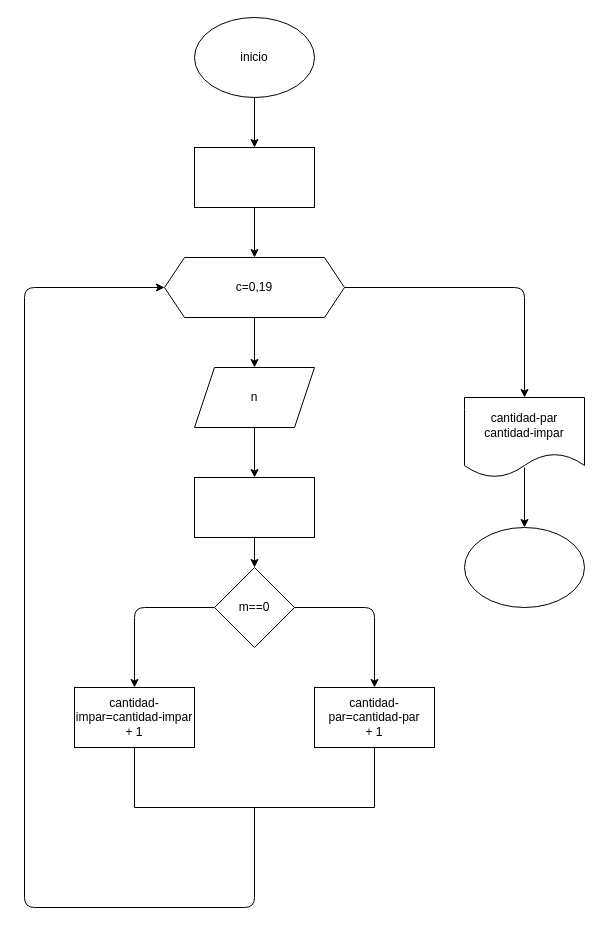
Image size: 602x933. Some labels were removed from this diagram. Here are the shapes that lost their labels. From the top down, the centre of each, then its label:
At pixel 254 177: "cantidad-par cantidad-inpar".
At pixel 254 507: "m=n%2".
At pixel 524 567: "fin".
